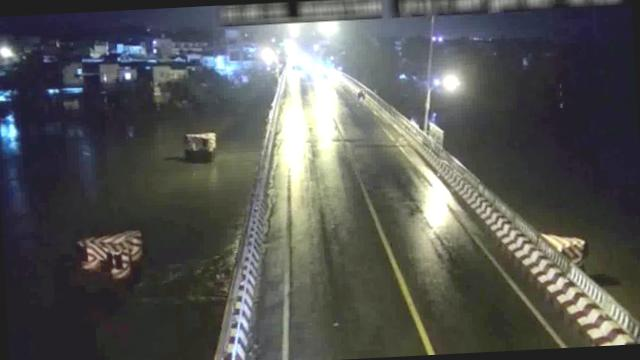Bike: (356, 88, 366, 105)
